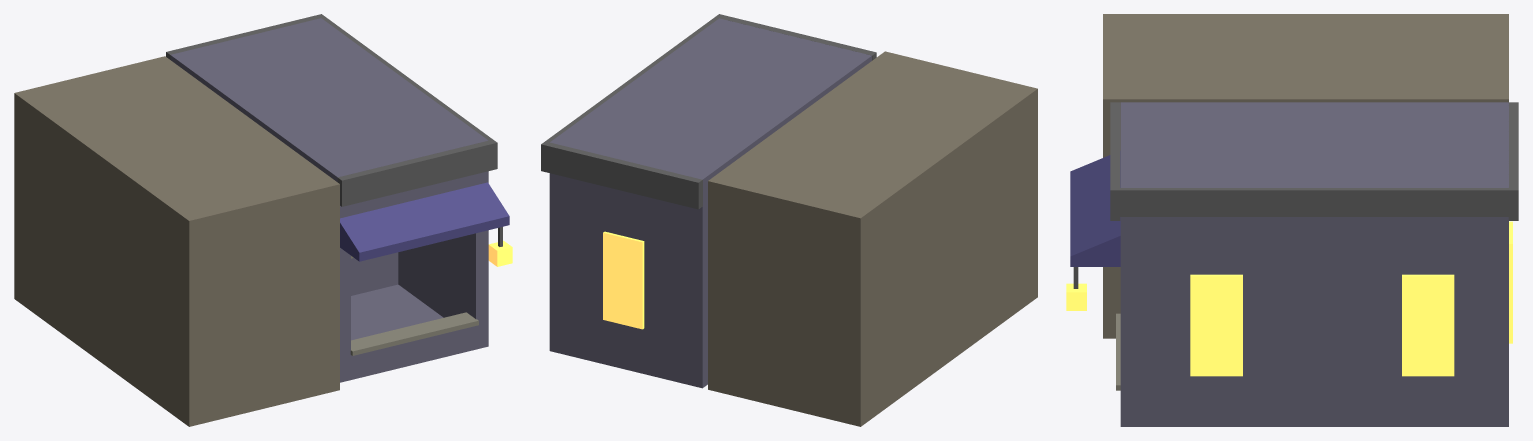
3 views of the same model, side by side, from view 1: azimuth 30°, elevation 25°; view 2: azimuth 150°, elevation 25°; view 3: azimuth 270°, elevation 25° (orthographic). The views are drawn at different scales.
Visible parts, largest first — view 1: Cube.028, Cube.001, Cube.002, Cube.011, Cube, Cube.010, Cube.012, Cube.007; view 2: Cube.028, Cube.001, Cube.012, Cube.013, Cube.010, Cube.011; view 3: Cube.001, Cube.028, Cube.010, Cube.008, Cube.009, Cube.002, Cube.011, Cube.012, Cube.007, Cube.013.
Boxes of the visible parts, x1,y1,x2,y2 form: Cube.028: [14, 56, 339, 426]; Cube.001: [170, 18, 488, 382]; Cube.002: [340, 182, 509, 261]; Cube.011: [337, 139, 497, 206]; Cube: [350, 312, 478, 355]; Cube.010: [321, 17, 492, 140]; Cube.012: [166, 14, 325, 59]; Cube.007: [488, 240, 512, 266]; Cube.028: [708, 51, 1037, 426]; Cube.001: [549, 18, 871, 388]; Cube.012: [541, 141, 702, 209]; Cube.013: [603, 231, 644, 329]; Cube.010: [545, 17, 718, 142]; Cube.011: [715, 14, 876, 60]; Cube.001: [1120, 102, 1508, 426]; Cube.028: [1103, 14, 1508, 338]; Cube.010: [1120, 188, 1508, 216]; Cube.008: [1190, 274, 1242, 376]; Cube.009: [1402, 274, 1454, 376]; Cube.002: [1070, 151, 1120, 266]; Cube.011: [1110, 102, 1120, 220]; Cube.012: [1508, 102, 1518, 220]; Cube.007: [1066, 283, 1086, 310]; Cube.013: [1509, 221, 1512, 343].
Bounding box in the file's own units: 12.81 × 8.1 × 13.88.
